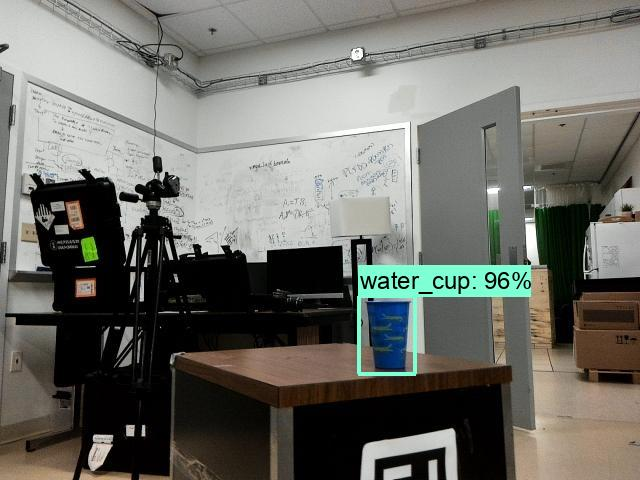water_cup: (356, 295, 417, 372)
